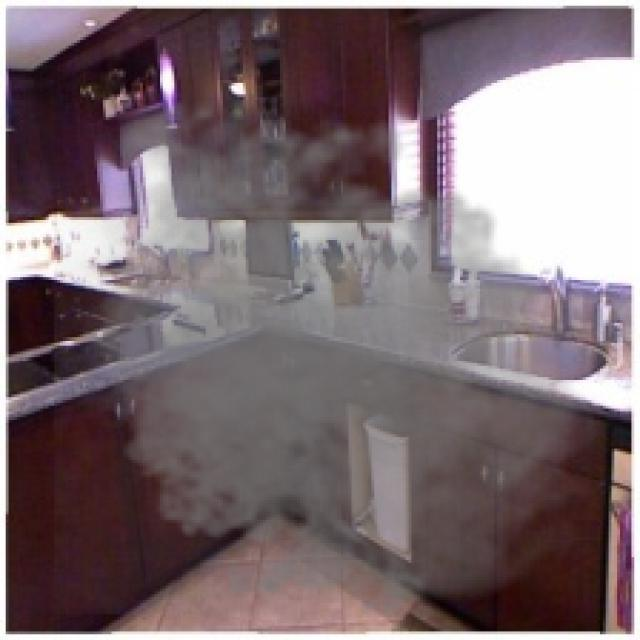Smoke: (54, 85, 623, 626)
